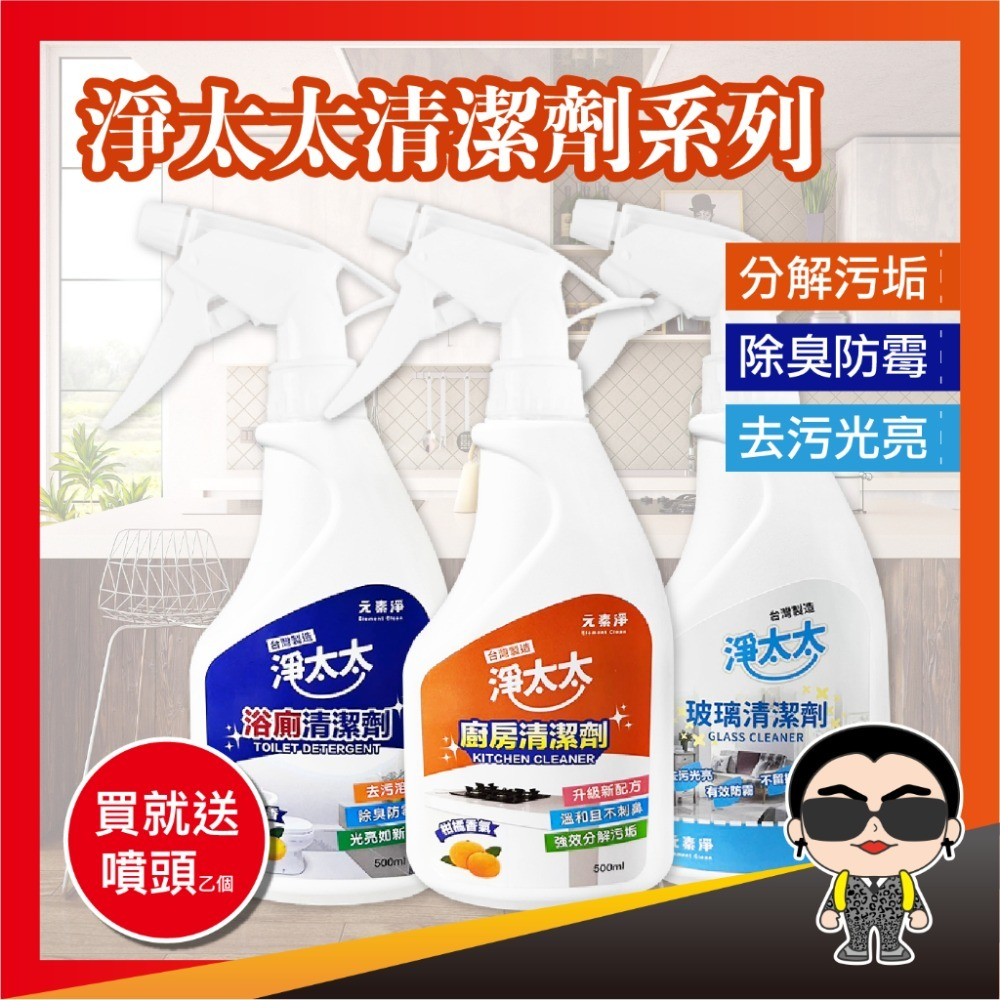cleaner: (86, 194, 508, 911), (559, 193, 930, 885), (318, 195, 676, 905)
